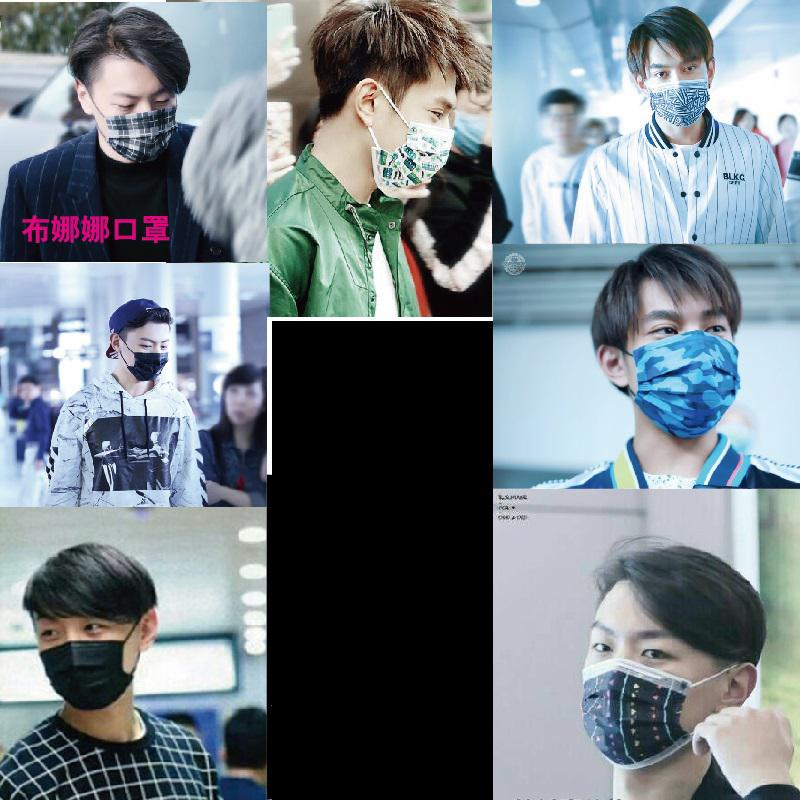NONE: (228, 384, 263, 423)
OK: (580, 610, 731, 761), (626, 302, 738, 437), (31, 598, 144, 711), (353, 95, 453, 195), (97, 76, 183, 162), (640, 55, 710, 125), (444, 85, 496, 157), (128, 334, 174, 382)
